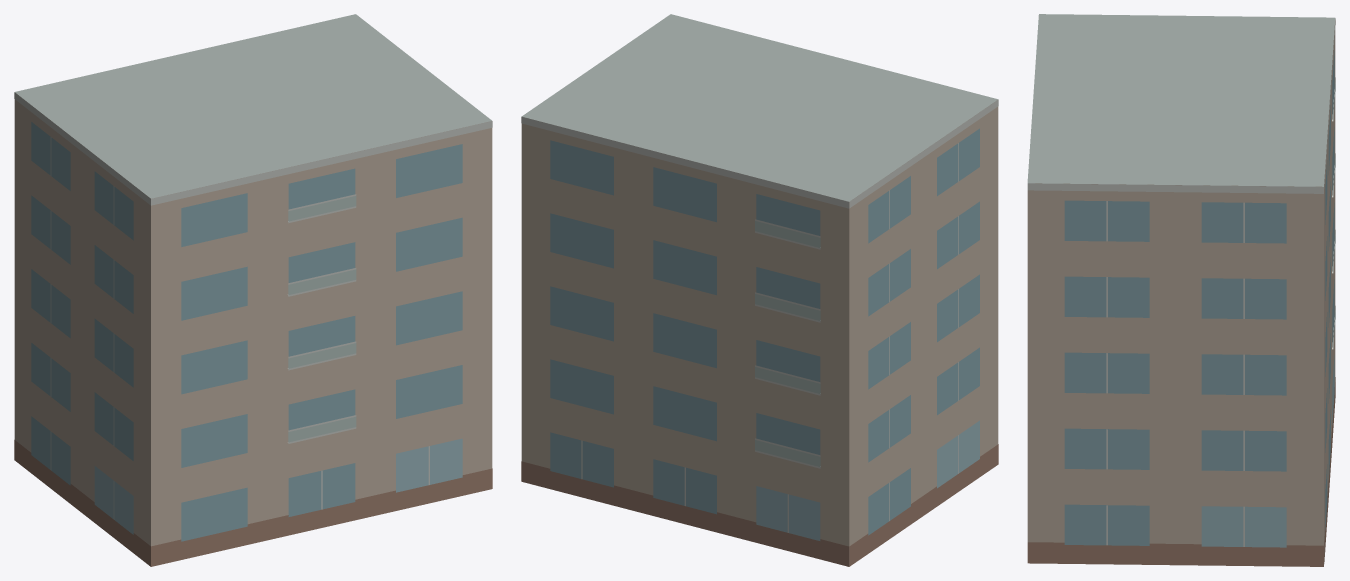
Rendered from survey-upis-32719045.glb.
The picture shows the model from 3 angles, left to right: view 1: azimuth 30°, elevation 25°; view 2: azimuth 150°, elevation 25°; view 3: azimuth 270°, elevation 25°; orthographic projection. The views are drawn at different scales.
Parts seen in each view (by area): view 1: survey-upis-32719045.tmp; view 2: survey-upis-32719045.tmp; view 3: survey-upis-32719045.tmp.
Part boxes in pixels (x1,y1,x2,y2): survey-upis-32719045.tmp: (14, 14, 492, 566); survey-upis-32719045.tmp: (521, 14, 998, 566); survey-upis-32719045.tmp: (1027, 14, 1335, 566).
Bounding box in the file's own units: 12.68 × 13 × 9.56.
